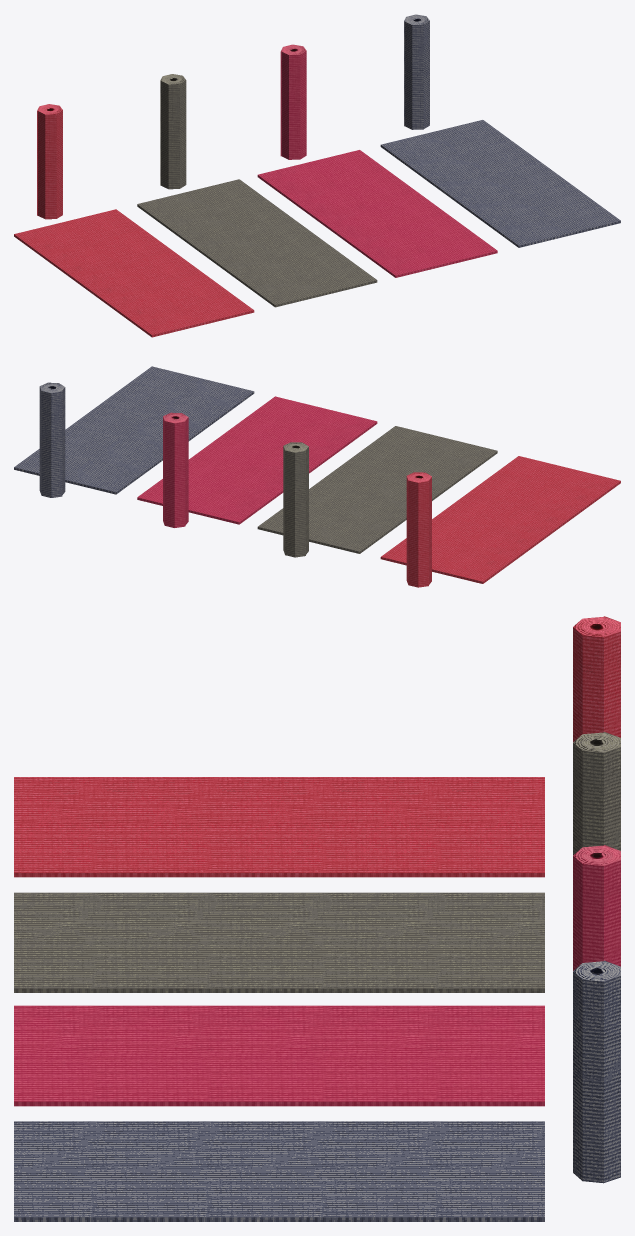
Rendered from yoga_mats_psx.glb.
The picture shows the model from 3 angles, top to bottom: view 1: azimuth 30°, elevation 25°; view 2: azimuth 150°, elevation 25°; view 3: azimuth 270°, elevation 25°; orthographic projection. The views are drawn at different scales.
Parts seen in each view (by area): view 1: YogaMatRed, YogaMatBlue, YogaMatGrey, YogaMatPink, YogaMatRollPink, YogaMatRollGrey, YogaMatRollRed, YogaMatRollBlue; view 2: YogaMatRed, YogaMatBlue, YogaMatGrey, YogaMatPink, YogaMatRollBlue, YogaMatRollRed, YogaMatRollGrey, YogaMatRollPink; view 3: YogaMatPink, YogaMatBlue, YogaMatGrey, YogaMatRed, YogaMatRollBlue, YogaMatRollPink, YogaMatRollRed, YogaMatRollGrey.
Boxes of the visible parts, x1,y1,x2,y2 form: YogaMatRed: (14,209,254,337); YogaMatBlue: (380,120,620,247); YogaMatGrey: (137,179,377,307); YogaMatPink: (257,150,497,277); YogaMatRollPink: (280,44,306,159); YogaMatRollGrey: (160,74,186,189); YogaMatRollRed: (37,104,62,219); YogaMatRollBlue: (404,14,429,129); YogaMatRed: (380,456,620,583); YogaMatBlue: (14,366,254,494); YogaMatGrey: (257,426,497,553); YogaMatPink: (137,396,377,524); YogaMatRollBlue: (39,382,65,497); YogaMatRollRed: (406,472,431,587); YogaMatRollGrey: (283,442,308,557); YogaMatRollPink: (163,412,188,527); YogaMatPink: (14,1005,544,1106); YogaMatBlue: (14,1121,544,1221); YogaMatGrey: (14,892,544,992); YogaMatRed: (14,777,544,877); YogaMatRollBlue: (573,960,620,1183); YogaMatRollPink: (573,845,620,970); YogaMatRollRed: (573,616,620,742); YogaMatRollGrey: (573,732,620,855).
Bounding box in the file's own units: 5.14 × 1.1 × 2.99.
8 materials, 8 textured.
